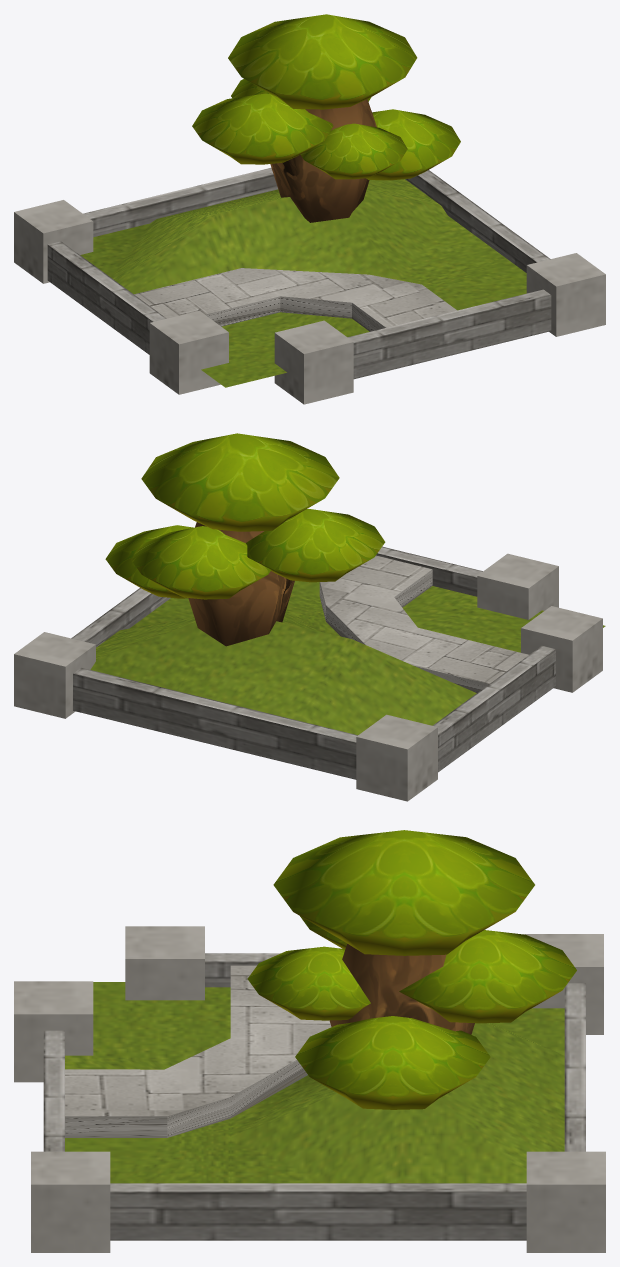
File: QSMY_City_shu_02.FBX
3 renders of one model, top to bottom at view 1: azimuth 30°, elevation 25°; view 2: azimuth 150°, elevation 25°; view 3: azimuth 270°, elevation 25°, orthographic. The views are drawn at different scales.
Parts seen in each view (by area): view 1: Cylinder09, Object40; view 2: Cylinder09, Object40; view 3: Cylinder09, Object40.
Boxes of the visible parts, bbox=[...] form: Cylinder09: bbox=[14, 14, 605, 404]; Object40: bbox=[366, 109, 460, 180]; Cylinder09: bbox=[14, 433, 605, 801]; Object40: bbox=[105, 525, 193, 598]; Cylinder09: bbox=[14, 830, 605, 1252]; Object40: bbox=[295, 1016, 490, 1109].
Bounding box in the file's own units: 33.25 × 19.77 × 32.18.
